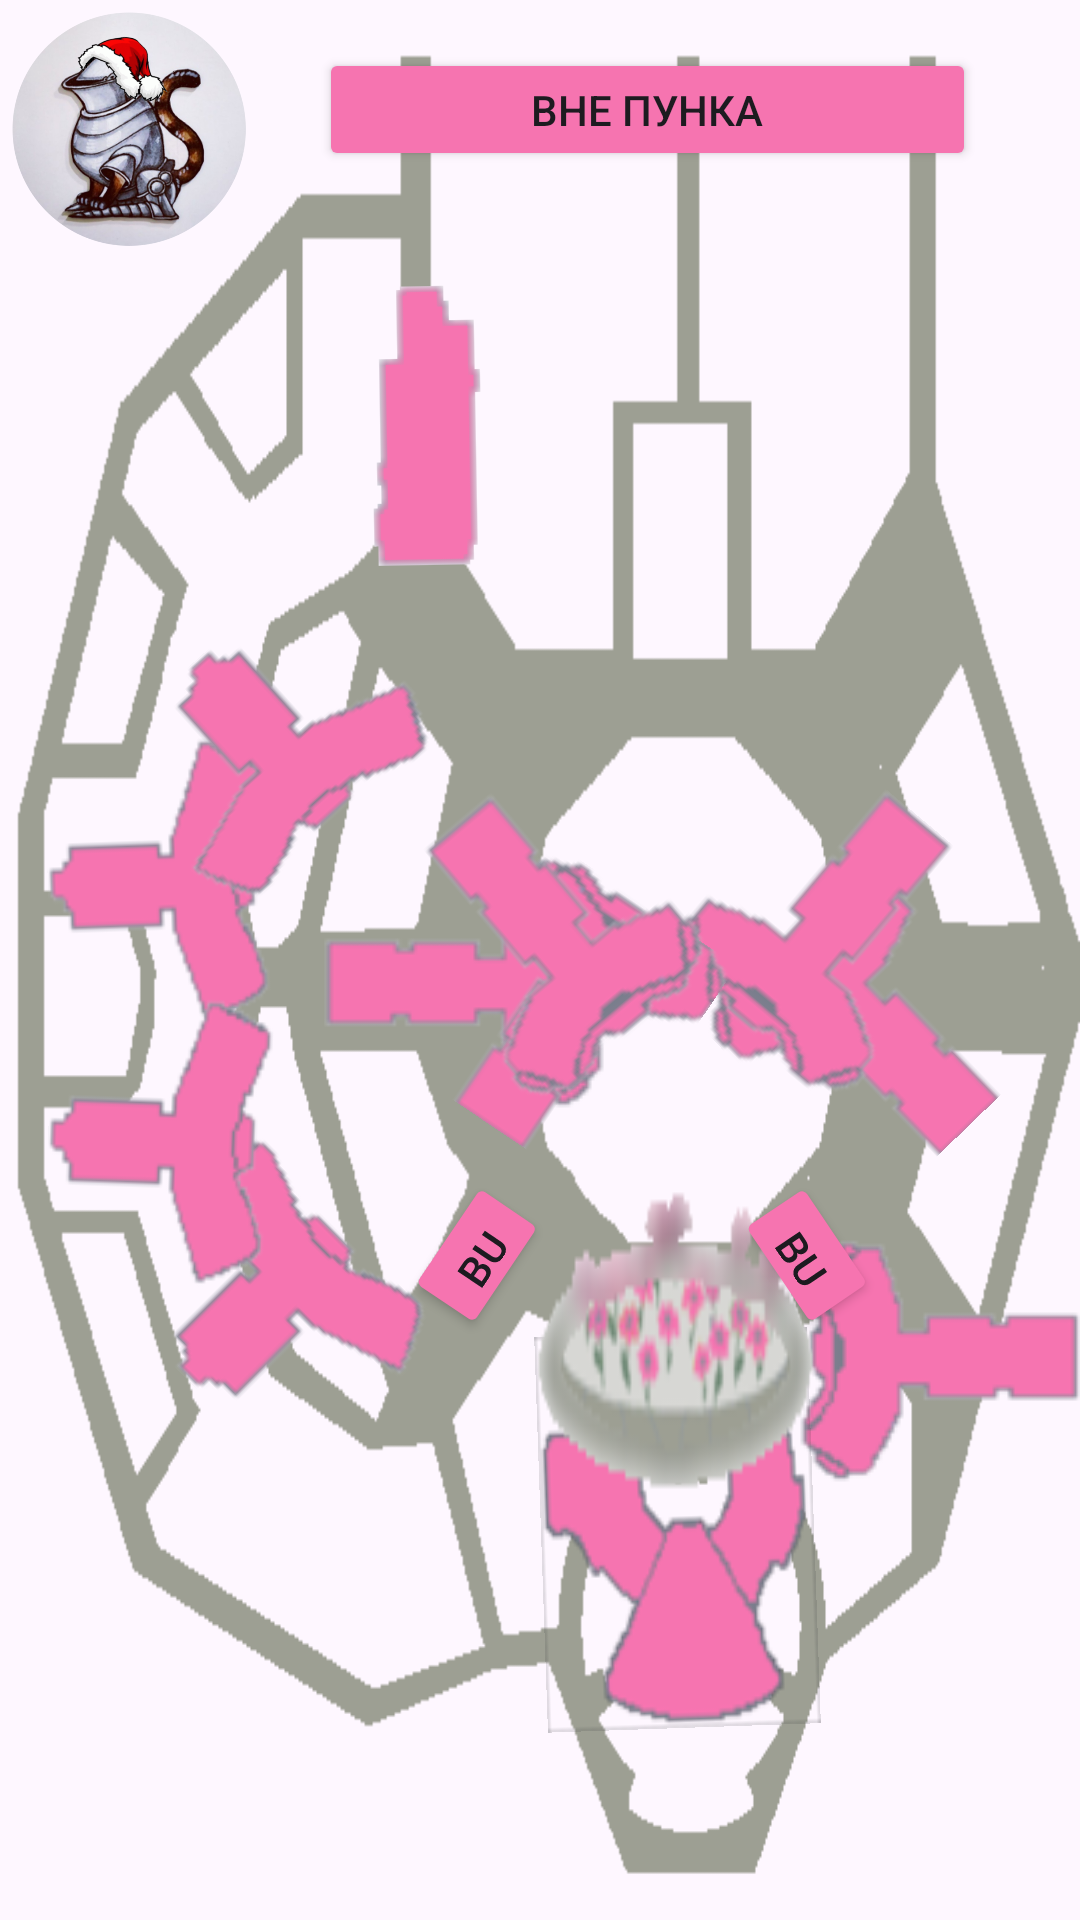

Icon click points for this 1080w x 1920h phone screenshot, format [x,y]:
clumba: [675,1344]
